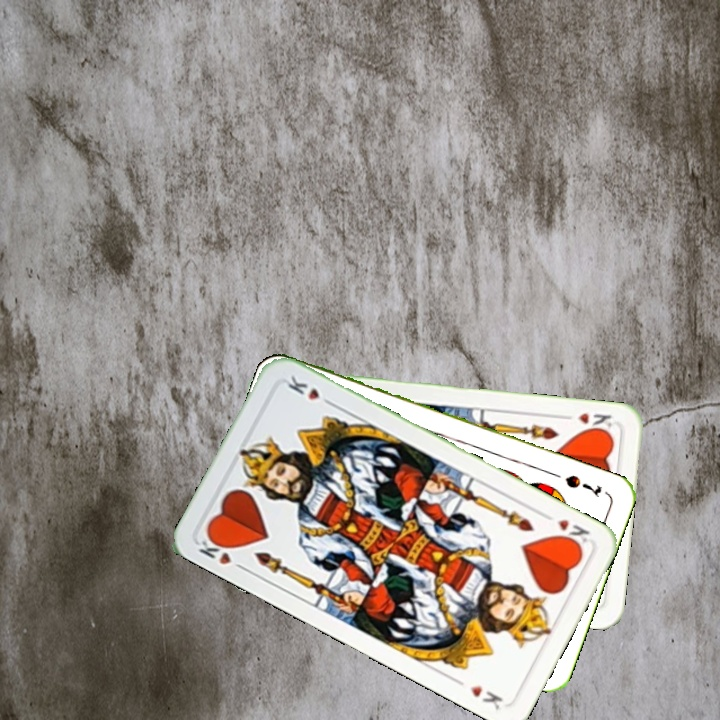HK: (194, 530, 249, 574), (539, 509, 593, 550), (558, 408, 614, 435)
S7: (561, 471, 604, 500)
